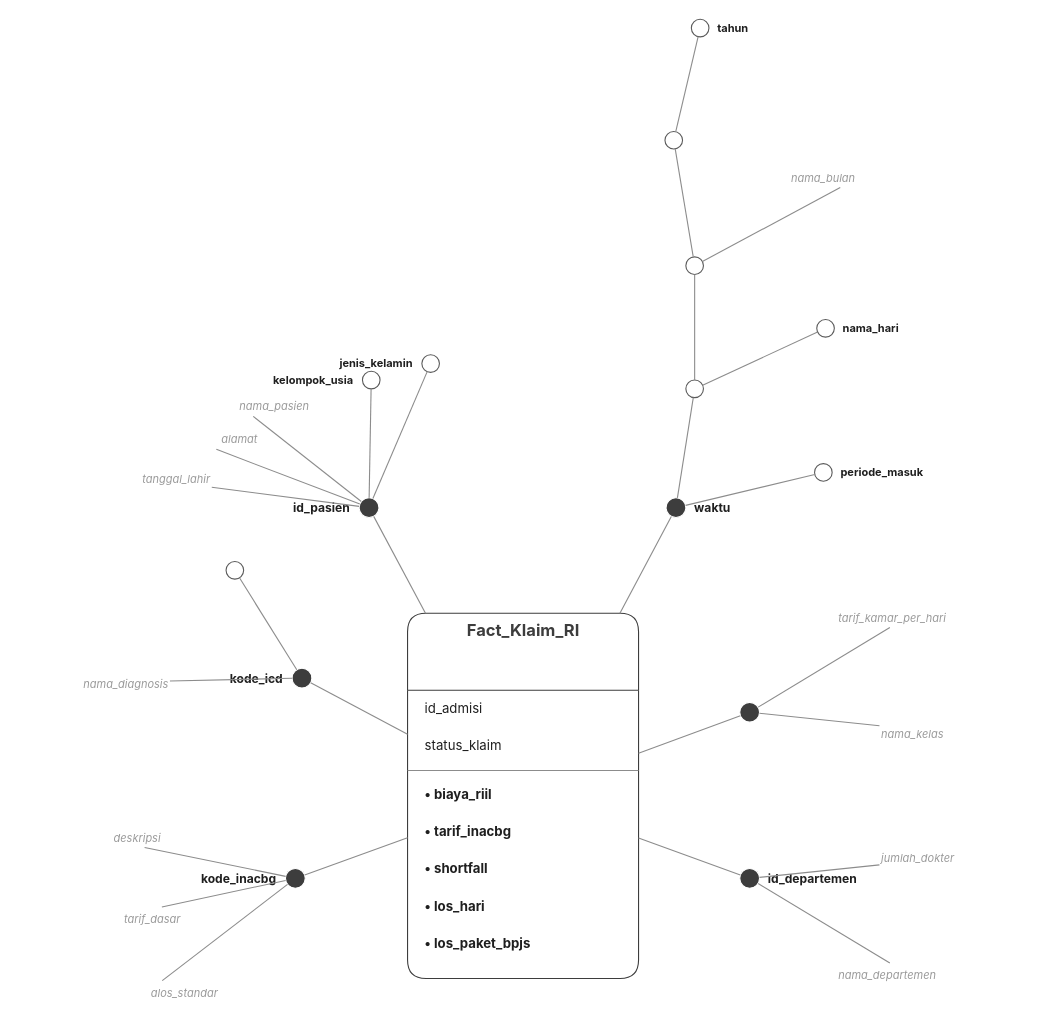
Image size: 1041x1022. Some labels were removed from this diagram. The centre of each missing label's shape, as x and y in pixels:
bulan: (694,265)
id_kelas: (749,711)
kategori_penyakit: (234,569)
kuartal: (673,139)
tanggal: (694,388)
